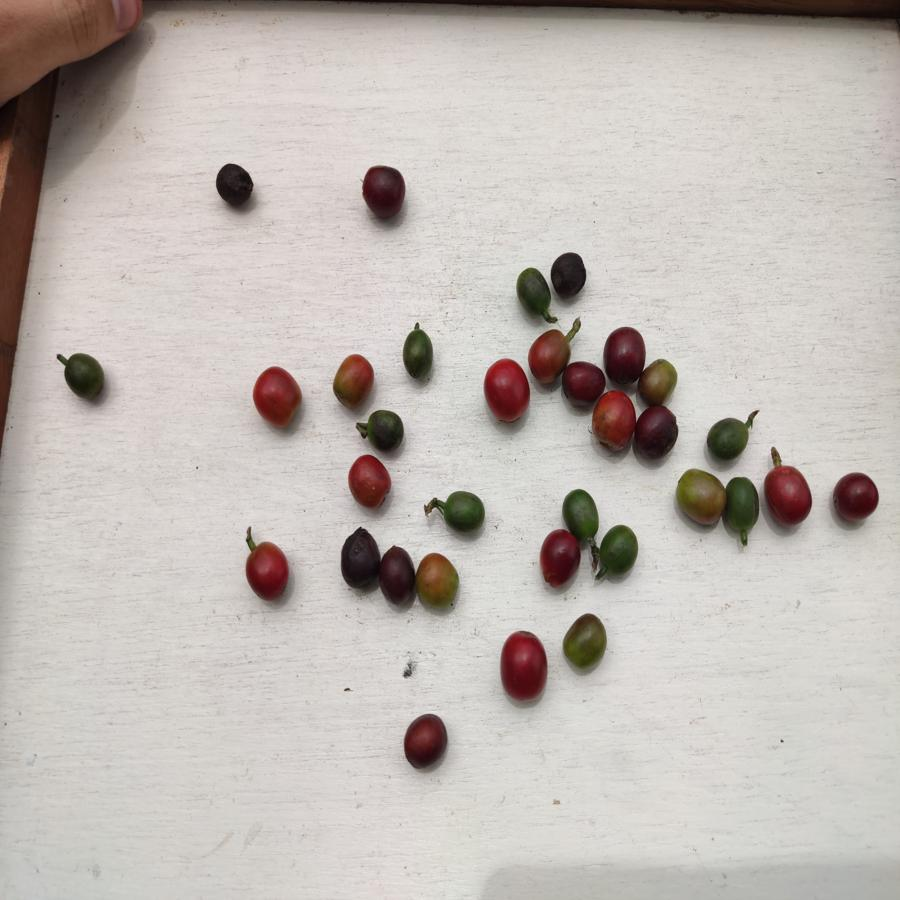Inmaduro: (58, 354, 106, 401), (442, 490, 492, 532), (724, 476, 760, 534), (599, 521, 638, 573), (399, 329, 435, 382), (707, 417, 750, 461), (514, 267, 551, 318), (562, 488, 602, 535), (364, 409, 406, 451)
Maduro: (500, 628, 550, 707), (251, 363, 305, 428), (763, 462, 814, 529), (238, 540, 292, 603), (482, 356, 530, 425), (592, 389, 633, 457), (536, 529, 580, 587), (347, 453, 392, 509), (526, 327, 564, 390)
Pinton: (673, 464, 725, 531), (415, 553, 460, 609), (563, 613, 606, 671), (333, 354, 374, 408), (641, 356, 678, 406)
Sobremaduro: (401, 712, 450, 770), (601, 325, 643, 386), (361, 165, 407, 220), (832, 473, 880, 525), (634, 407, 681, 459), (378, 543, 415, 609), (341, 531, 377, 592), (549, 250, 588, 297), (215, 161, 254, 206), (563, 361, 601, 407)
